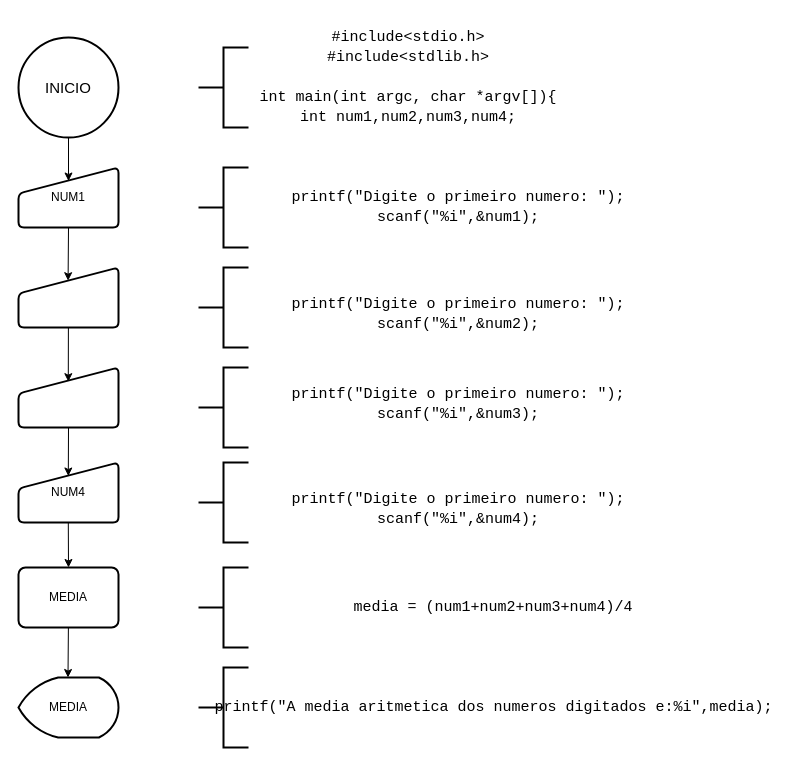
Image size: 789x765. Some labels were removed from this diagram. The box of each missing label's shape, as (x1, y1, x2, y2) in pixels:
NUM2: (17, 266, 119, 328)
NUM3: (17, 366, 119, 428)
